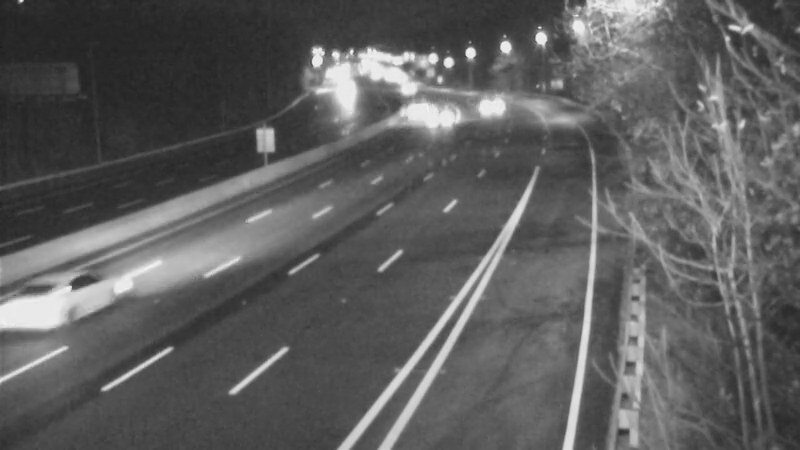vehicle: (1, 256, 100, 366), (383, 65, 433, 115), (465, 79, 515, 129), (391, 81, 441, 131), (411, 93, 461, 143)
